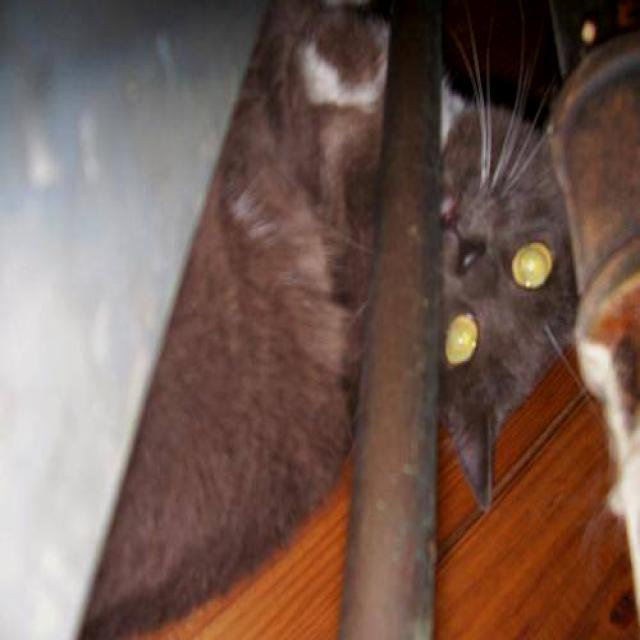Kucing: (73, 0, 627, 639)
